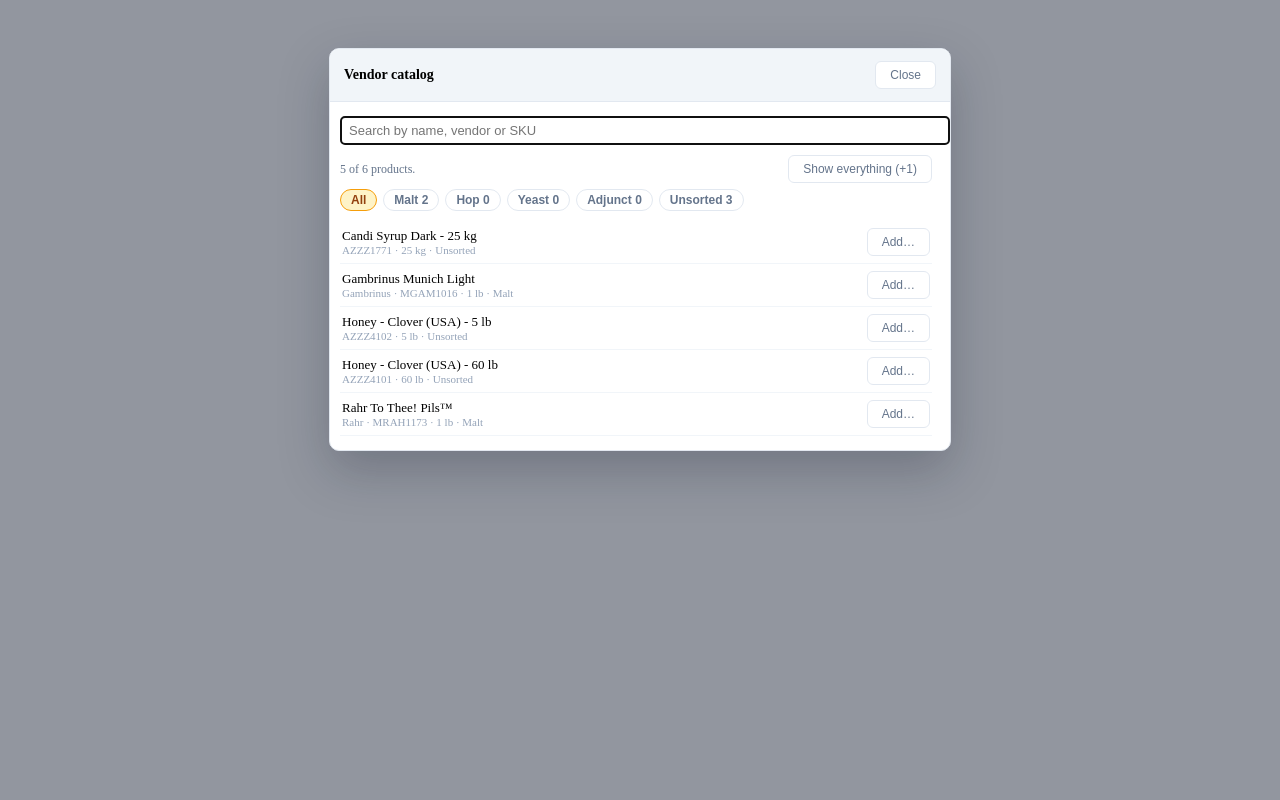
Scenario: CatalogBrowser › searches by name, vendor or SKU
The image size is (1280, 800).
Type "gambrinus" into the field named "Search the catalog" at (645,130), box [340,116,950,145]
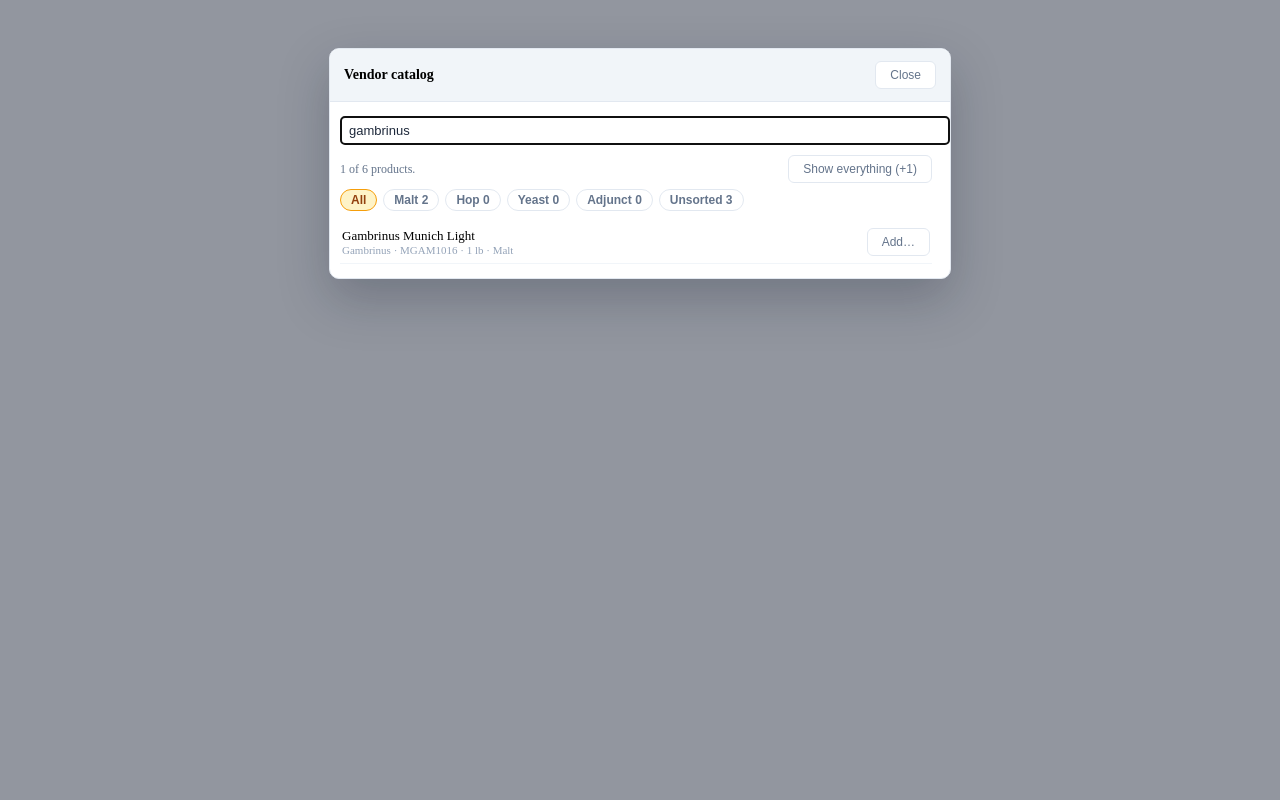
Expected: the text "Gambrinus Munich Light" is shown, [342,228,475,243]
Expected: the text "Rahr To Thee! Pils™" is gone
